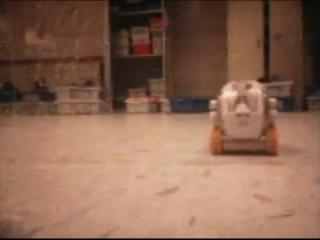cozmo: (207, 79, 279, 156)
